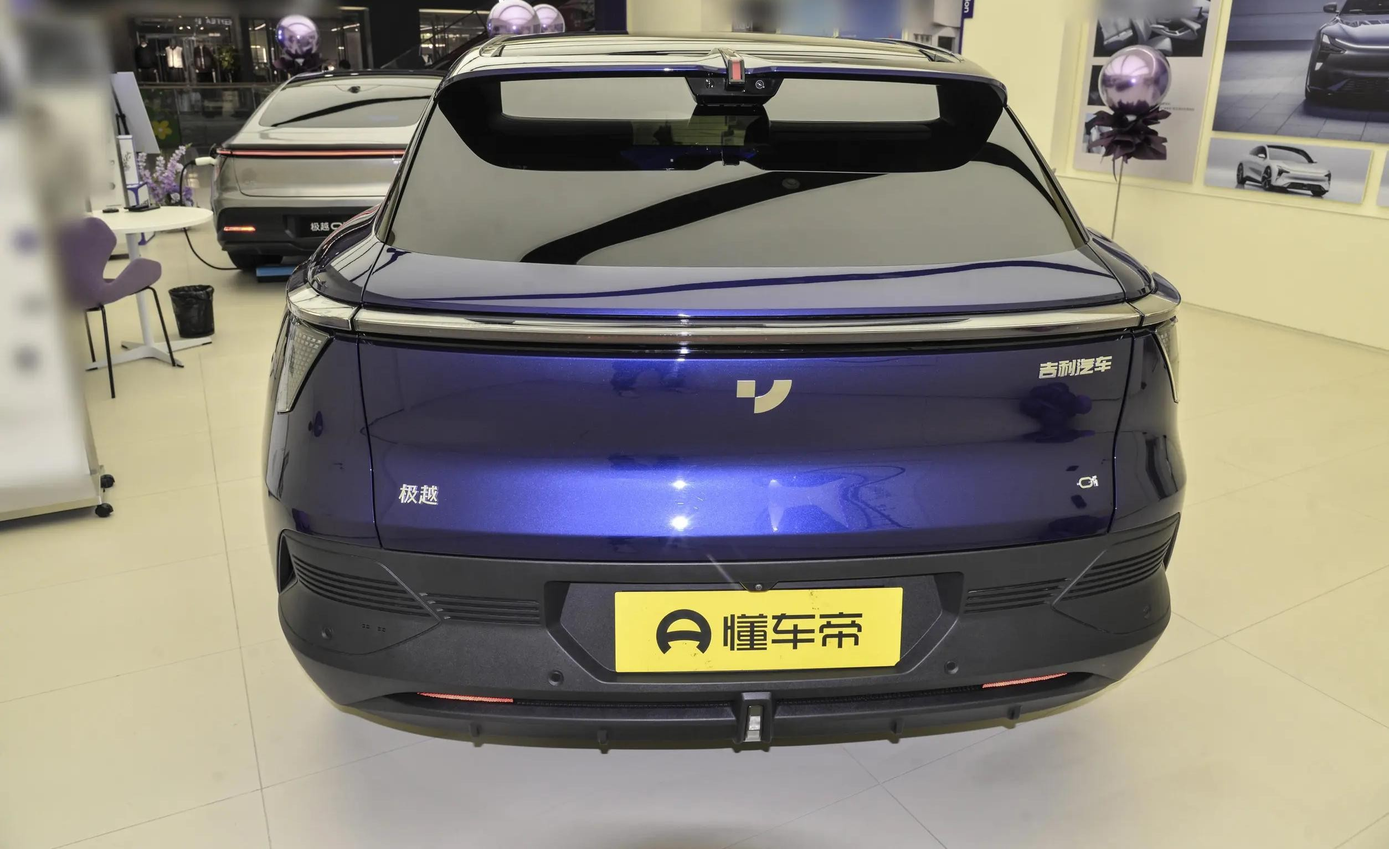JIYUE: (738, 379, 793, 414)
